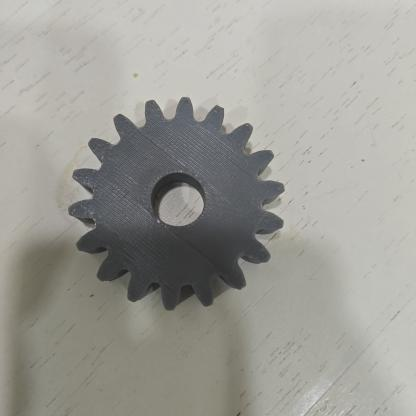gear: (60, 93, 296, 321)
